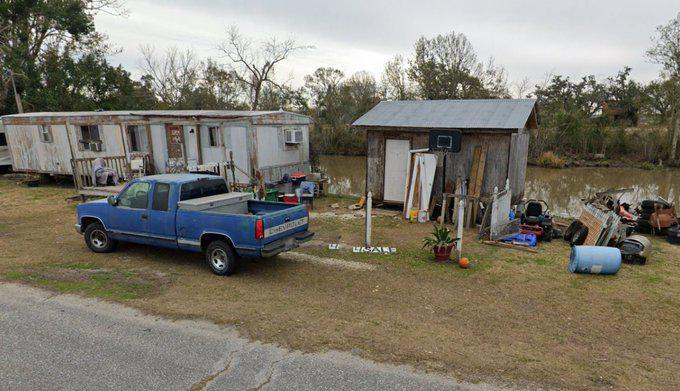minor: (5, 106, 313, 192), (357, 91, 534, 222)
